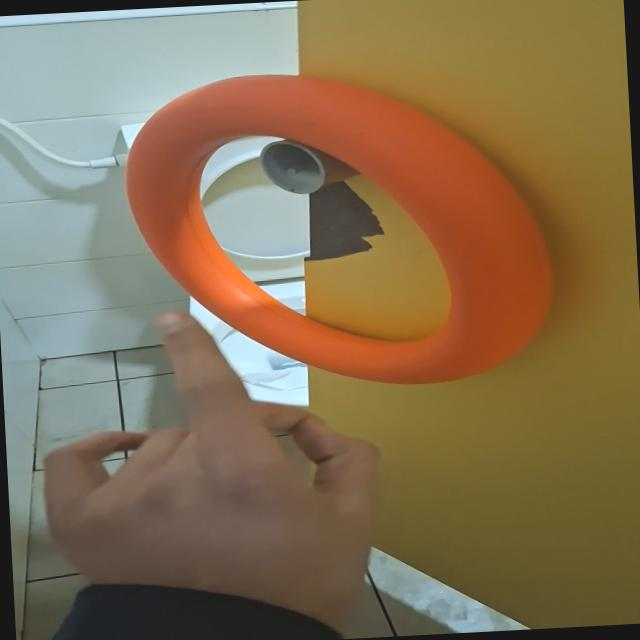note: (119, 58, 561, 400)
